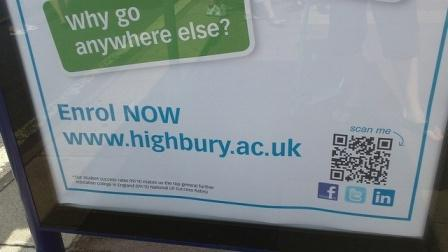Finder pattern: (325, 166, 346, 183), (331, 132, 349, 148), (376, 135, 393, 150)
